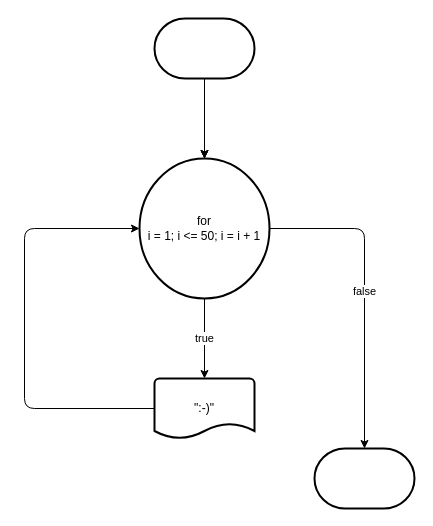
Image size: 433x526. Some labels were removed from this diagram. Each missing label, with the centre of its shape:
"Start" goes at point 204,48.
"Stop" goes at point 364,478.
